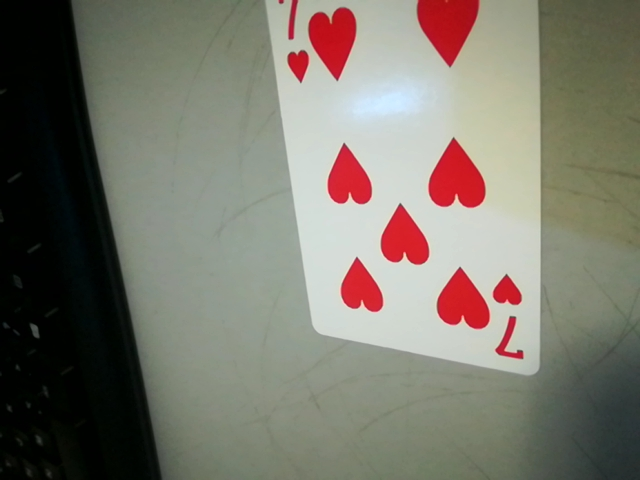hx 7: (487, 273, 536, 368)
